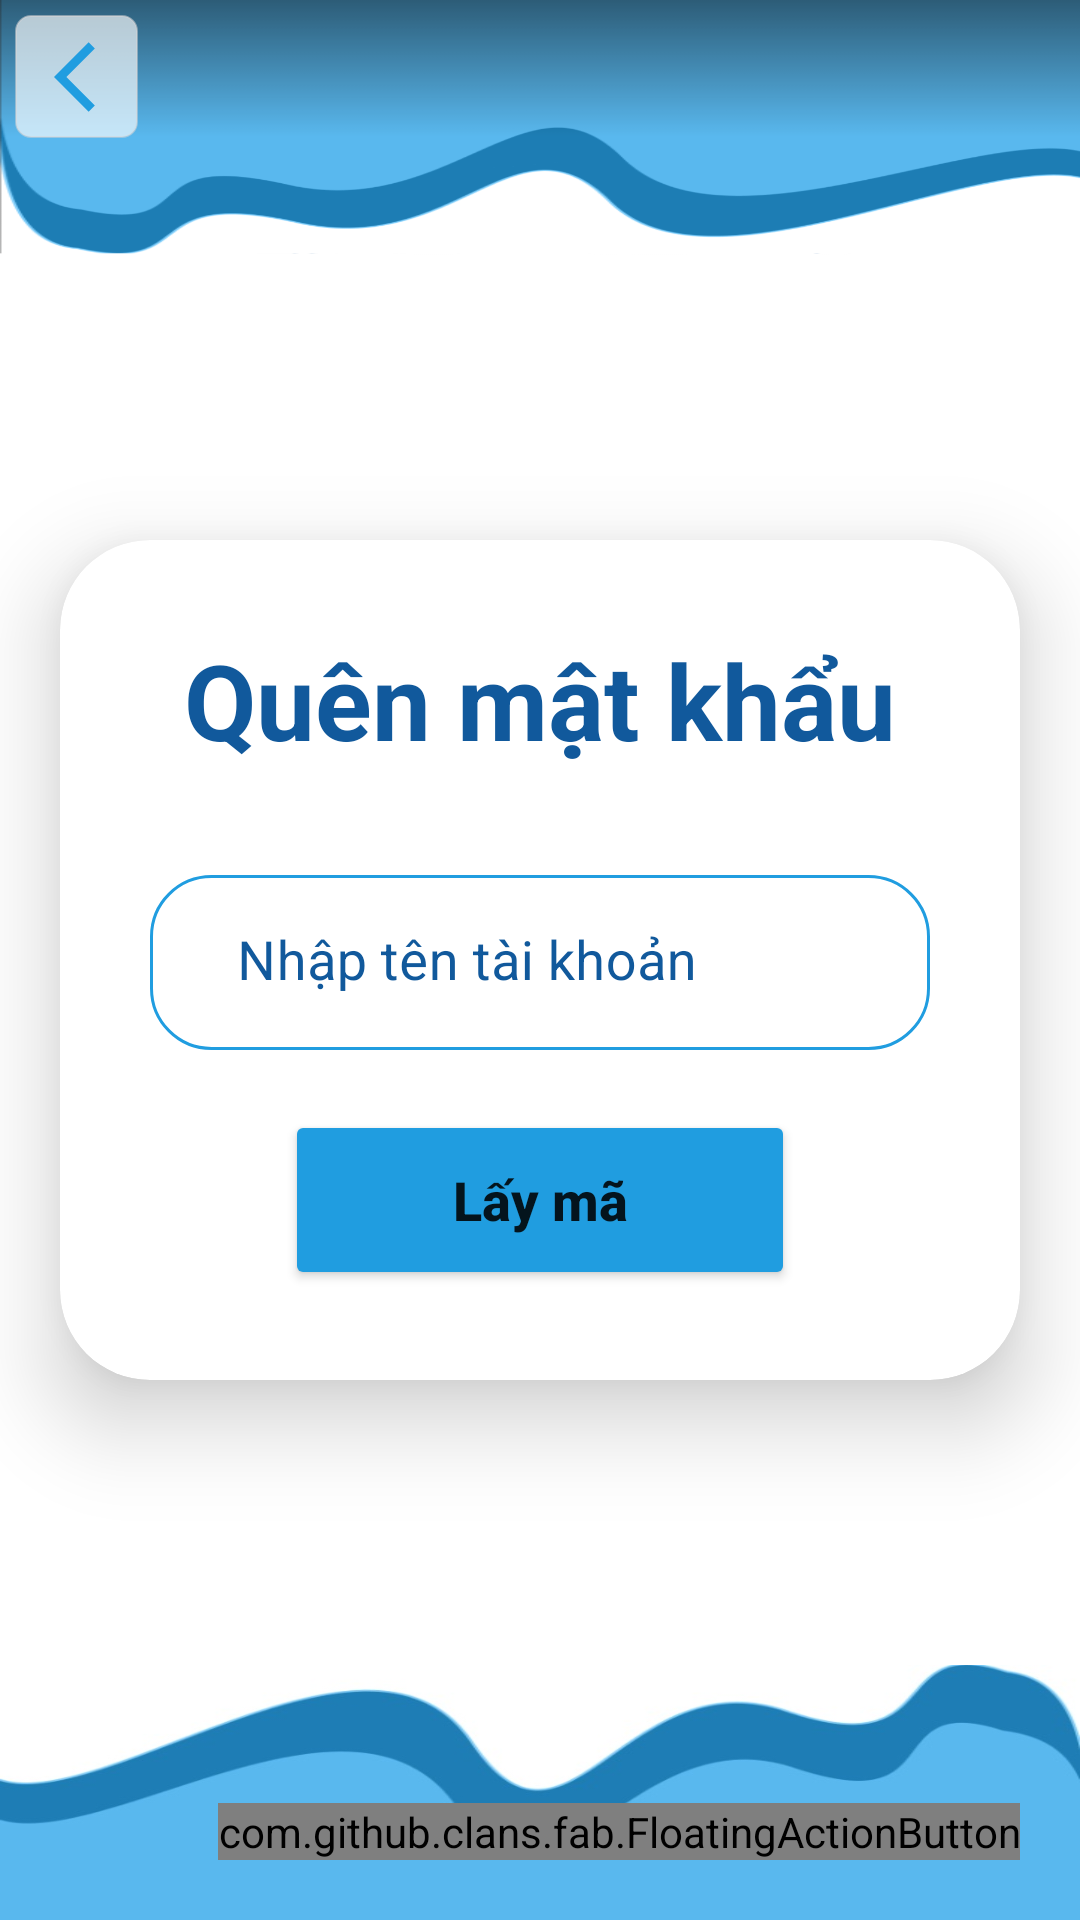

Icons on this 1080 x 1920 Android screen, each with the point to tap as point (x, y):
arrow back: point (76, 76)
